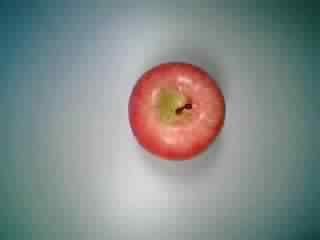apple: (127, 60, 231, 161)
